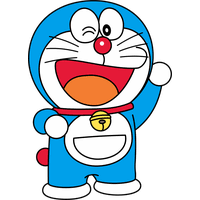doraemon: (27, 1, 173, 200)
